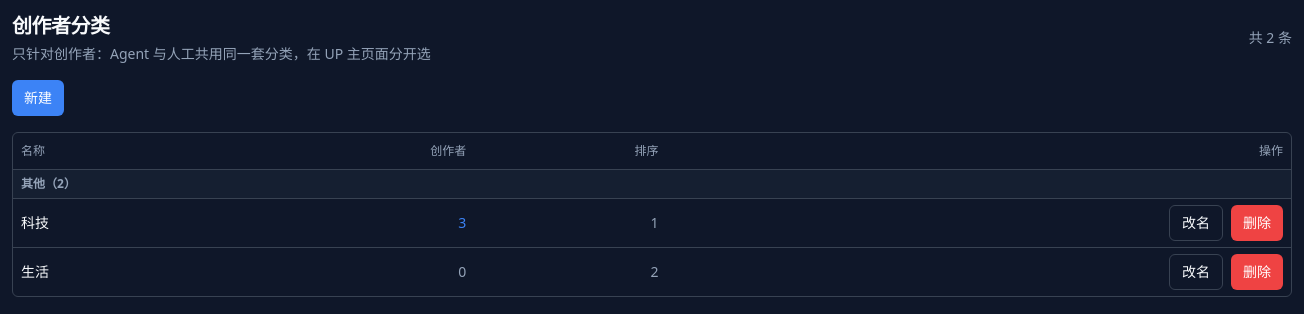
Test: 删除失败：toast 错误文案
Expected: the text "科技" is shown, [13,198,224,247]
Step 1. Click the button "删除" in the row of "科技" → (1257, 222), box [1231,204,1283,240]
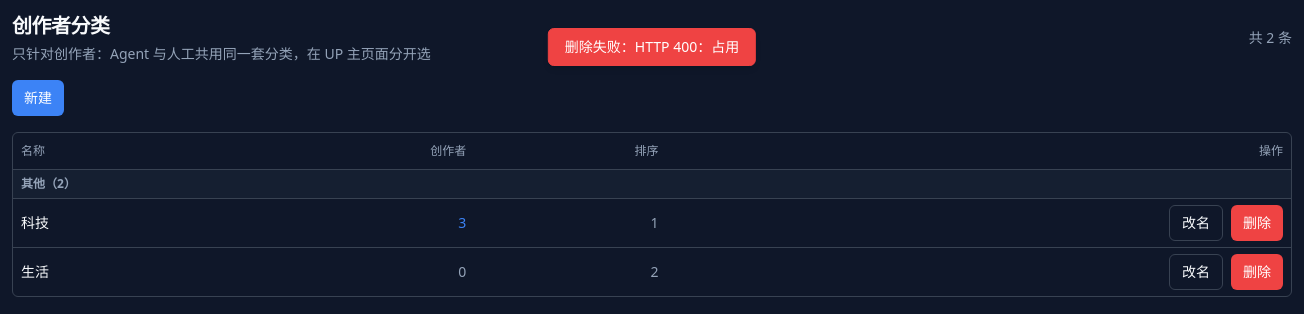
Result: the text "删除失败：HTTP 400：占用" is shown at [548,28,756,66]
